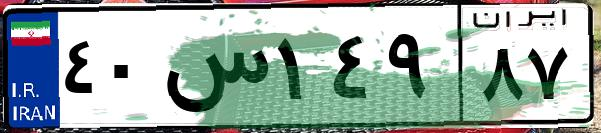0: (110, 28, 158, 98)
1: (270, 28, 330, 110)
4: (330, 28, 385, 110), (57, 26, 110, 100)
7: (525, 38, 570, 115)
8: (475, 38, 525, 113)
9: (385, 28, 445, 110)
س: (158, 20, 270, 120)
